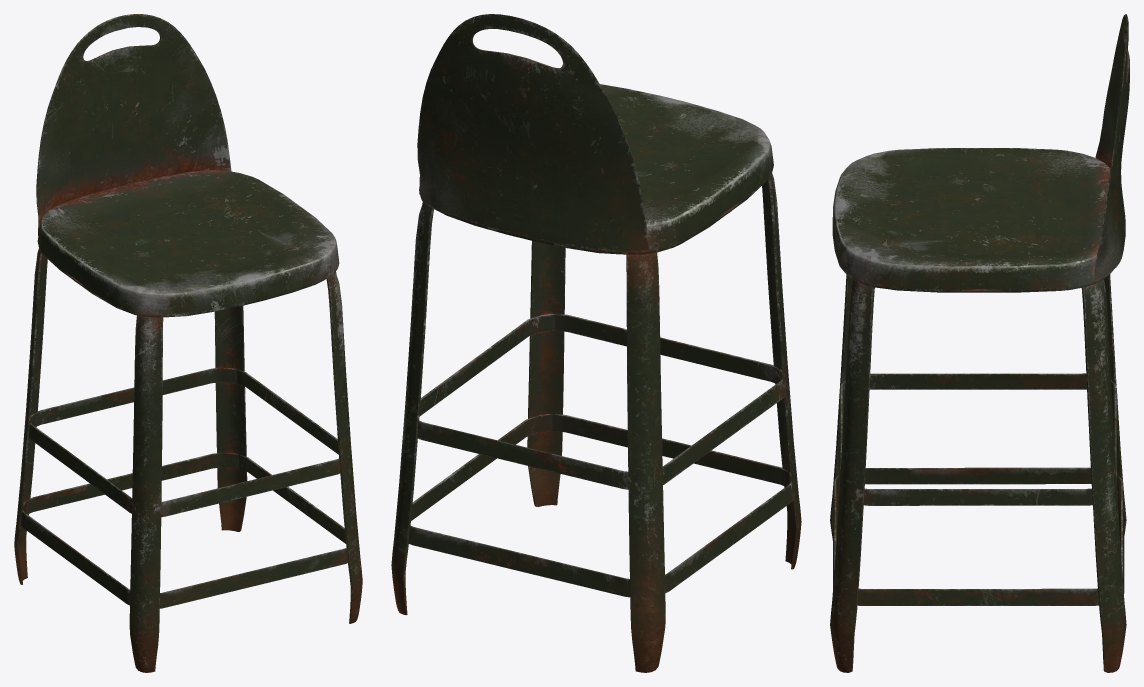
File: ph-metal_stool_03.87857eee492b.glb
3 renders of one model, left to right at view 1: azimuth 30°, elevation 25°; view 2: azimuth 150°, elevation 25°; view 3: azimuth 270°, elevation 25°, orthographic. The views are drawn at different scales.
Parts seen in each view (by area): view 1: metal_stool_03; view 2: metal_stool_03; view 3: metal_stool_03.
Boxes of the visible parts, x1,y1,x2,y2 form: metal_stool_03: (14,14,362,672); metal_stool_03: (391,14,801,672); metal_stool_03: (830,14,1129,672).
Size of the model in its own units: 0.4606 by 1.02 by 0.4706.
Materials: 1 (1 with a texture image).
